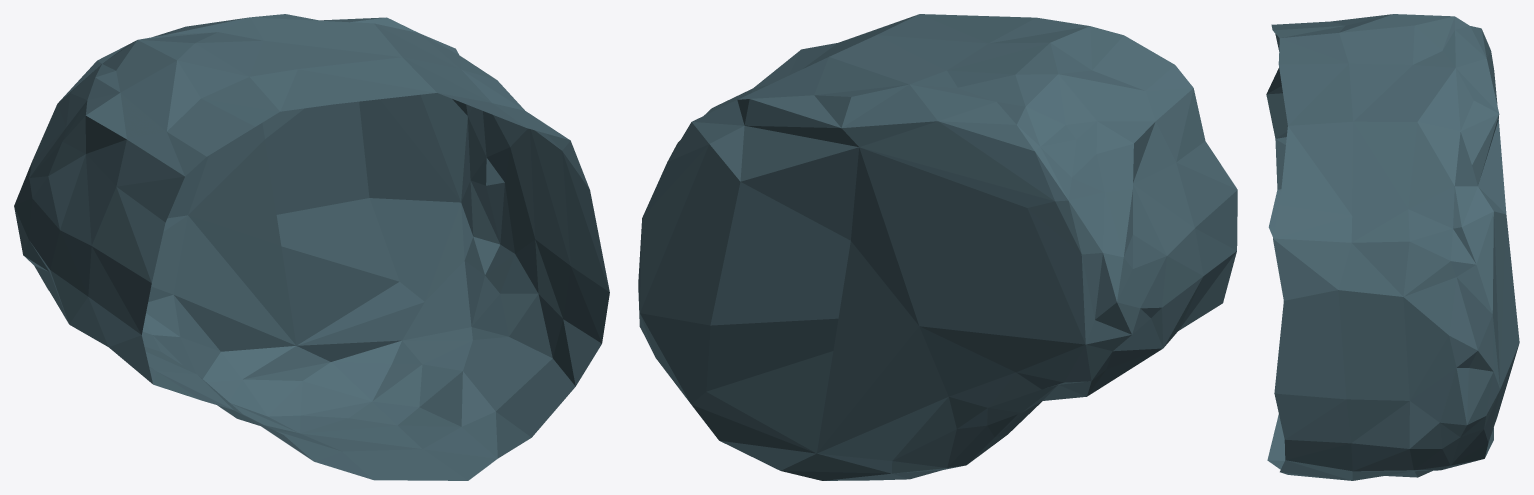
File: Stone base.fbx
The picture shows the model from 3 angles, left to right: view 1: azimuth 30°, elevation 25°; view 2: azimuth 150°, elevation 25°; view 3: azimuth 270°, elevation 25°; orthographic projection. The views are drawn at different scales.
Parts seen in each view (by area): view 1: Rock; view 2: Rock; view 3: Rock.
Boxes of the visible parts, box(x1,y1,x2,y2) form: Rock: box(14, 14, 609, 480); Rock: box(638, 14, 1237, 480); Rock: box(1266, 14, 1519, 480).
Bounding box in the file's own units: 778 × 647 × 413.
